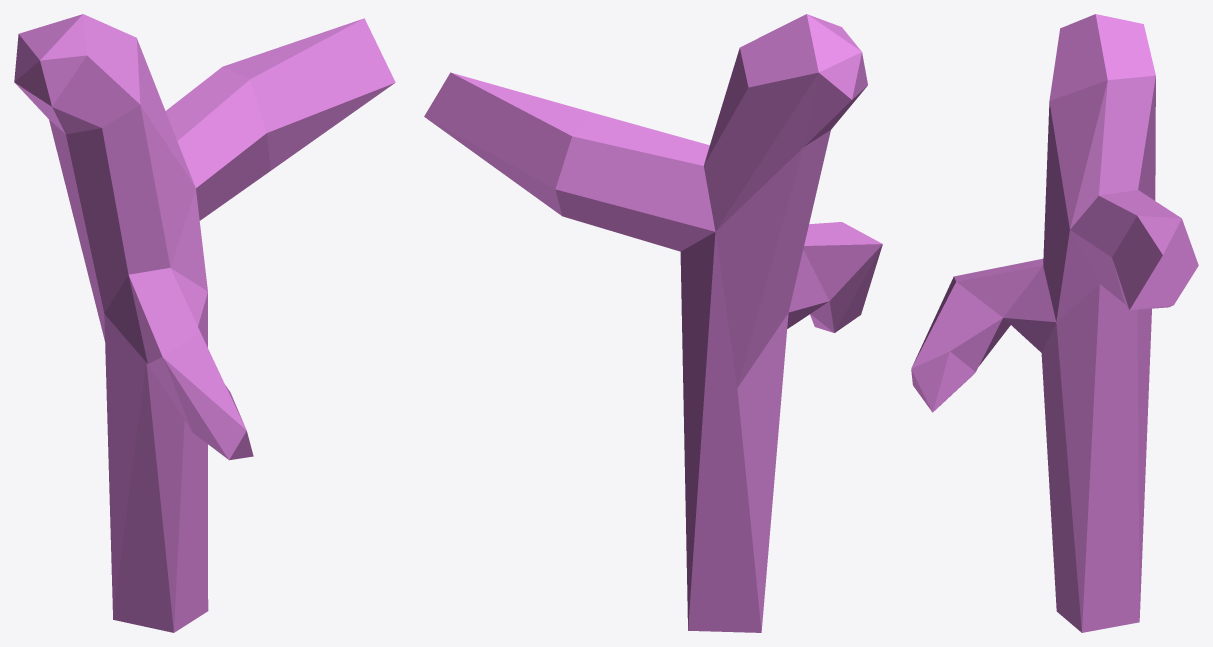
File: Coral1.fbx
3 views of the same model, side by side, from view 1: azimuth 30°, elevation 25°; view 2: azimuth 150°, elevation 25°; view 3: azimuth 270°, elevation 25° (orthographic). The views are drawn at different scales.
Visible parts, largest first — view 1: Coral1; view 2: Coral1; view 3: Coral1.
Boxes of the visible parts, left/top/right/bottom form: Coral1: left=14, top=14, right=395, bottom=632; Coral1: left=424, top=14, right=882, bottom=632; Coral1: left=911, top=14, right=1198, bottom=632.
Size of the model in its own units: 288 by 431 by 198.
